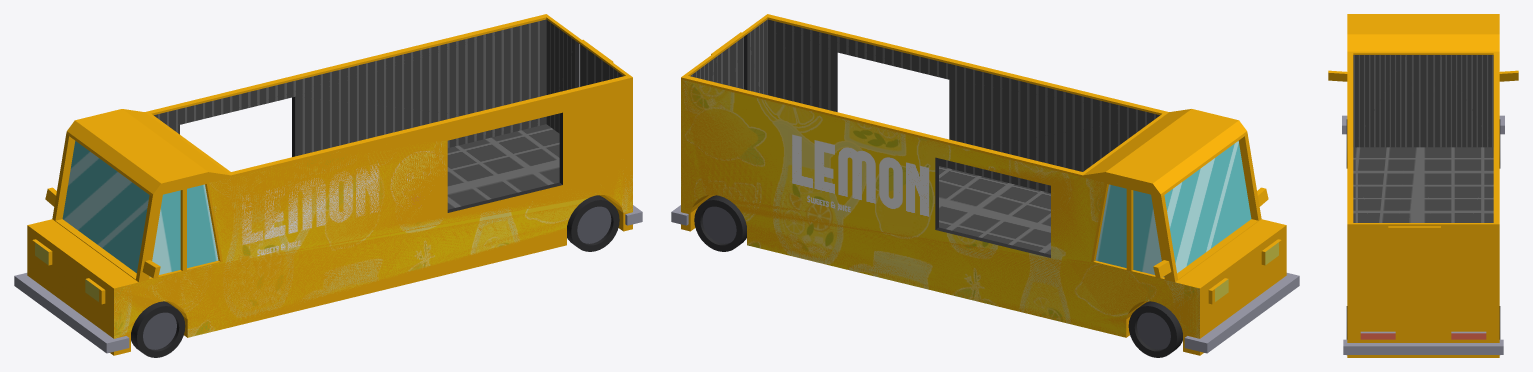
File: FoodTruckC.fbx
3 renders of one model, left to right at view 1: azimuth 30°, elevation 25°; view 2: azimuth 150°, elevation 25°; view 3: azimuth 270°, elevation 25°, orthographic. The views are drawn at different scales.
Parts seen in each view (by area): view 1: Body.005, Decal.002, WFR.006, WBR.006, Door R.003; view 2: Body.005, Decal.002, WFL.006, WBL.006, Door R.003; view 3: Body.005, Door R.003.
Boxes of the visible parts, x1,y1,x2,y2 form: Body.005: (14, 14, 642, 355); Decal.002: (114, 139, 632, 338); WFR.006: (131, 301, 185, 357); WBR.006: (567, 195, 619, 251); Door R.003: (580, 39, 613, 86); Body.005: (671, 14, 1299, 355); Decal.002: (681, 79, 1199, 337); WFL.006: (1128, 301, 1182, 357); WBL.006: (694, 195, 746, 251); Door R.003: (711, 32, 743, 89); Body.005: (1328, 14, 1518, 357); Door R.003: (1388, 226, 1440, 319).
Size of the model in its own units: 931 by 287 by 324.
Materials: 5 (5 with a texture image).
